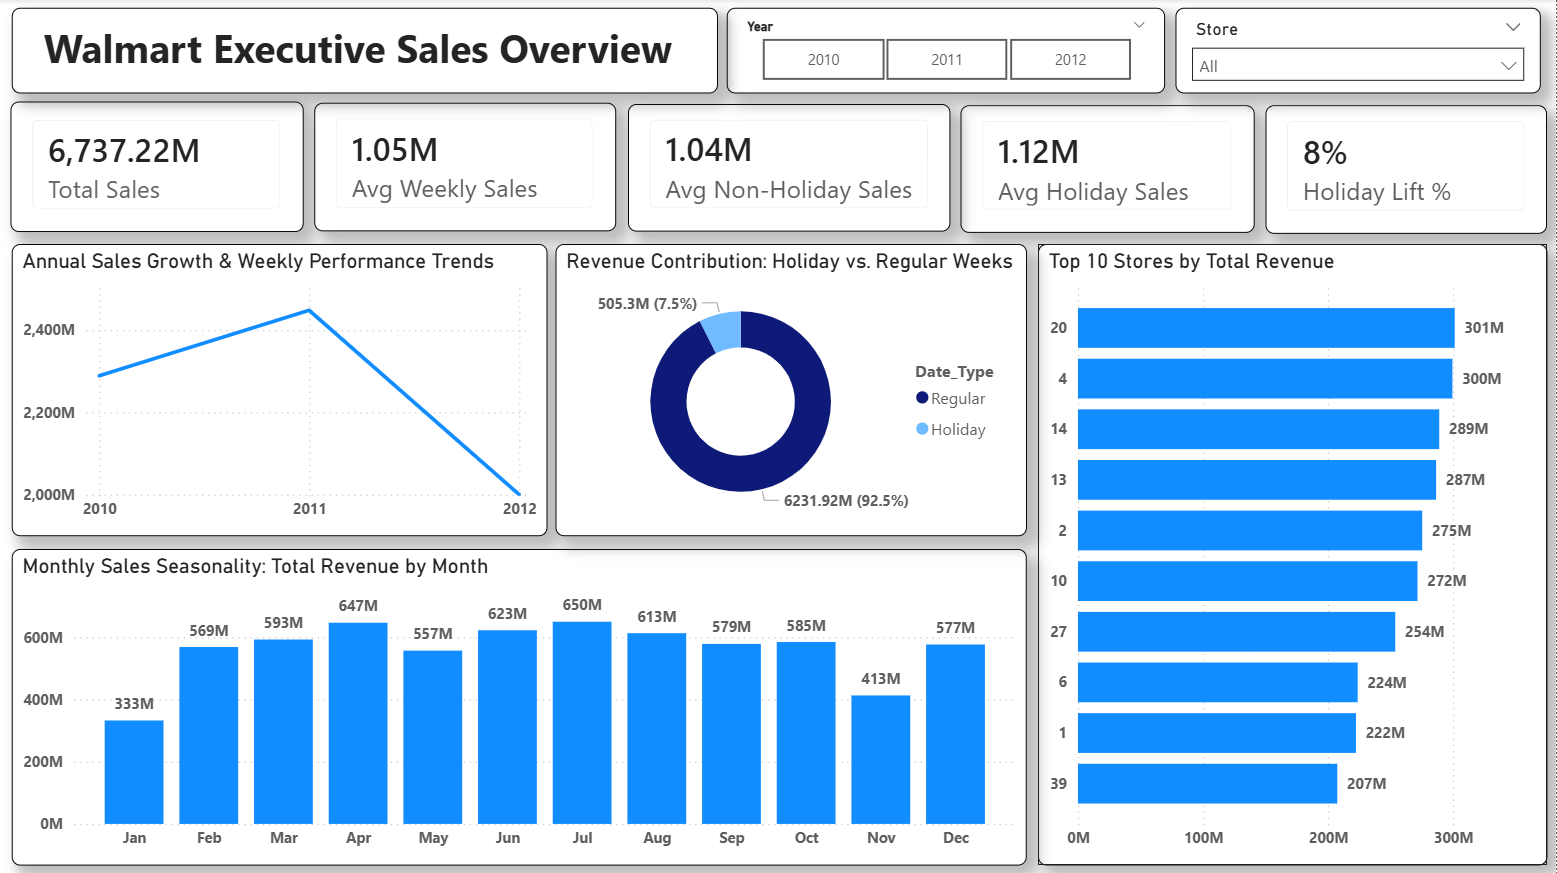

The dashboard page shown, as its layout file describes it:
{"tool":"powerbi","page":{"name":"Page 1","canvas":[1280,720],"ordinal":0},"visuals":[{"type":"cardVisual","fields":{"Data":["Measures (2).Total Sales"]},"box":[10.5,83.7,240.7,107],"z":0},{"type":"cardVisual","fields":{"Data":["Measures (2).Avg Weekly Sales"]},"box":[259.3,84.9,247.7,105.8],"z":1000},{"type":"cardVisual","fields":{"Data":["Measures (2).Avg Holiday Sales"]},"box":[790.7,87.2,241.9,104.7],"z":2000},{"type":"cardVisual","fields":{"Data":["Measures (2).Avg Non-Holiday Sales"]},"box":[517.4,86,265.1,104.7],"z":3000},{"type":"cardVisual","fields":{"Data":["Measures (2).Holiday Lift %"]},"box":[1040.7,87.2,231.4,105.8],"z":4000},{"type":"lineChart","title":"Annual Sales Growth & Weekly Performance Trends","fields":{"Category":["vw_dim_date.Date.Variation.Date Hierarchy.Year","vw_dim_date.Date.Variation.Date Hierarchy.Quarter","vw_dim_date.Date.Variation.Date Hierarchy.Month","vw_dim_date.Date.Variation.Date Hierarchy.Day"],"Y":["Measures (2).Total Sales"]},"box":[11.2,201.2,440,240],"z":5000},{"type":"clusteredBarChart","title":"Top 10 Stores by Total Revenue","fields":{"Category":["vw_store_performance.Store"],"Y":["Sum(vw_store_performance.total_sales)"]},"box":[853.8,201.2,418.8,510],"z":6000},{"type":"clusteredColumnChart","title":"Monthly Sales Seasonality: Total Revenue by Month","fields":{"Y":["Measures (2).Total Sales"],"Category":["vw_dim_date.Month_Short"]},"box":[11.2,451.2,833.8,260],"z":7000},{"type":"donutChart","title":"Revenue Contribution: Holiday vs. Regular Weeks","fields":{"Category":["vw_dim_date.Date_Type"],"Y":["Measures (2).Total Sales"]},"box":[457.5,201.2,387.5,240],"z":8000},{"type":"slicer","fields":{"Values":["vw_dim_date.Year"]},"box":[598.8,7.5,360,70],"z":9000},{"type":"textbox","box":[11.2,7.5,580,70],"z":10000},{"type":"slicer","fields":{"Values":["vw_store_performance.Store"]},"box":[967.5,7.5,300,70],"z":11000}]}

Visuals, with their boxes in screenshot pixels (x1, y1, x2, y2), scaled from the page's 1280x720 canvas onto the 1557x873 screenshot:
cardVisual - Measures (2).Total Sales: crop(13, 101, 306, 231)
cardVisual - Measures (2).Avg Weekly Sales: crop(315, 103, 617, 231)
cardVisual - Measures (2).Avg Holiday Sales: crop(962, 106, 1256, 233)
cardVisual - Measures (2).Avg Non-Holiday Sales: crop(629, 104, 952, 231)
cardVisual - Measures (2).Holiday Lift %: crop(1266, 106, 1547, 234)
"Annual Sales Growth & Weekly Performance Trends" lineChart: crop(14, 244, 549, 535)
"Top 10 Stores by Total Revenue" clusteredBarChart: crop(1039, 244, 1548, 862)
"Monthly Sales Seasonality: Total Revenue by Month" clusteredColumnChart: crop(14, 547, 1028, 862)
"Revenue Contribution: Holiday vs. Regular Weeks" donutChart: crop(557, 244, 1028, 535)
slicer - vw_dim_date.Year: crop(728, 9, 1166, 94)
textbox: crop(14, 9, 719, 94)
slicer - vw_store_performance.Store: crop(1177, 9, 1542, 94)
